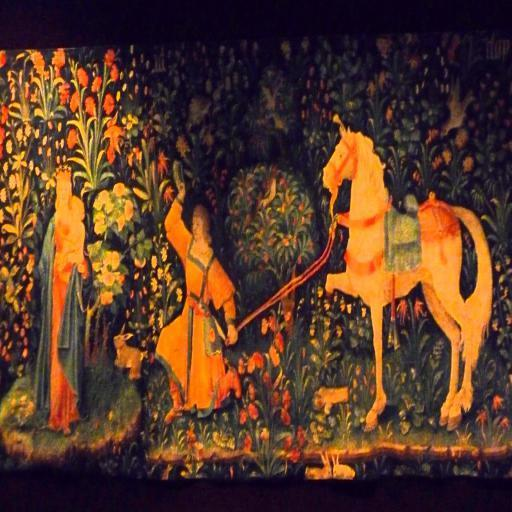horse: (321, 125, 493, 432)
